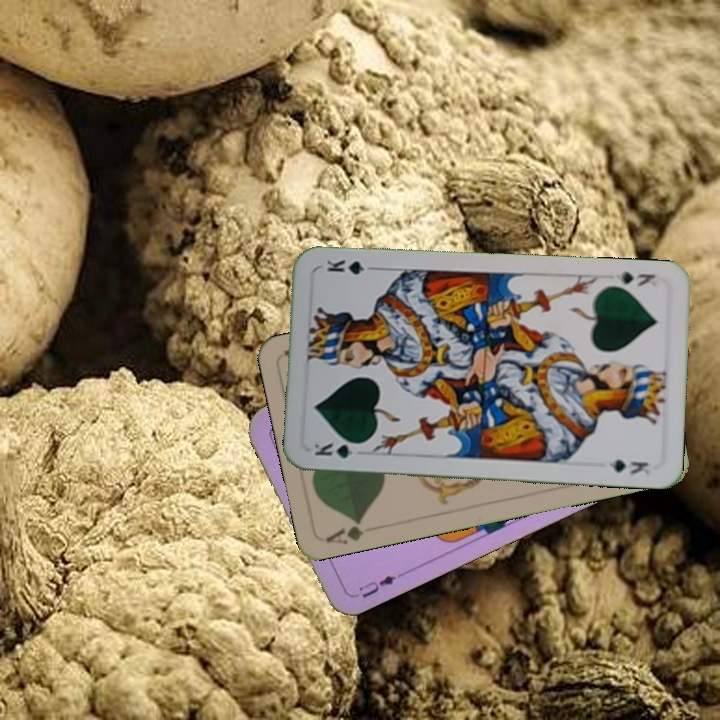EU: (354, 569, 405, 601)
GA: (322, 514, 367, 547)
GK: (310, 439, 367, 461), (612, 268, 659, 291)
